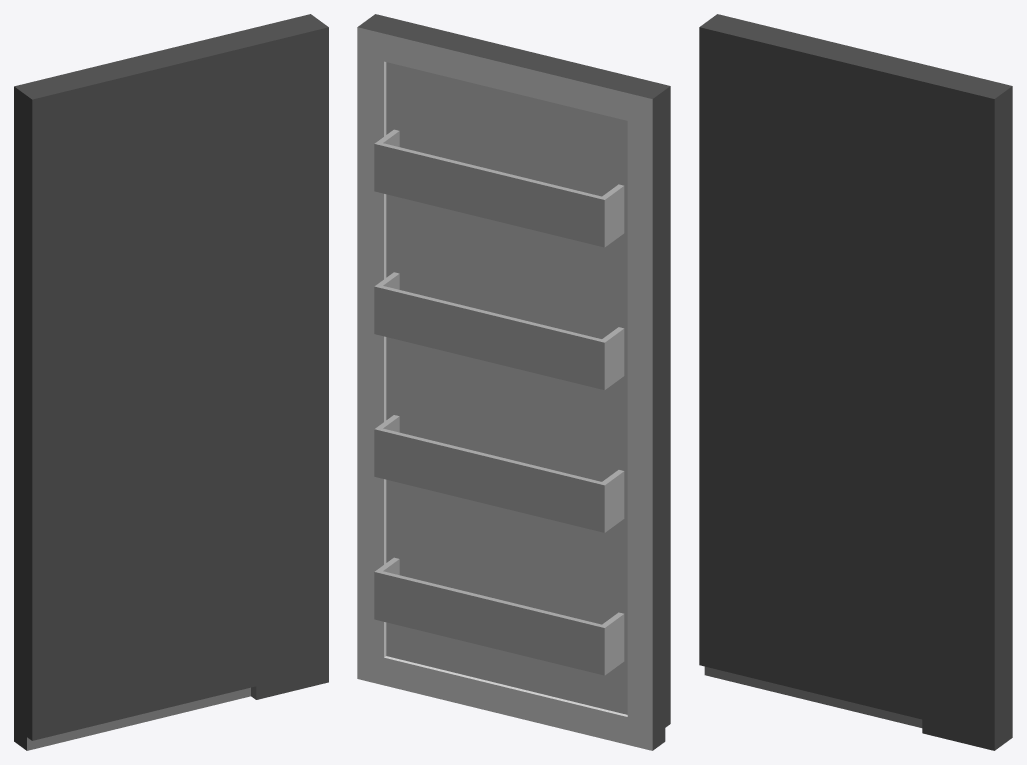
Rendered from Refrigerator3_C2_07.fbx.
The picture shows the model from 3 angles, left to right: view 1: azimuth 30°, elevation 25°; view 2: azimuth 150°, elevation 25°; view 3: azimuth 330°, elevation 25°; orthographic projection.
Parts seen in each view (by area): view 1: Refrigerator3_C2_07; view 2: Refrigerator3_C2_07; view 3: Refrigerator3_C2_07.
Part boxes in pixels (x1,y1,x2,y2): Refrigerator3_C2_07: (14, 14, 328, 750); Refrigerator3_C2_07: (357, 14, 670, 750); Refrigerator3_C2_07: (699, 14, 1012, 750).
Bounding box in the file's own units: 47.38 × 100 × 9.83.
